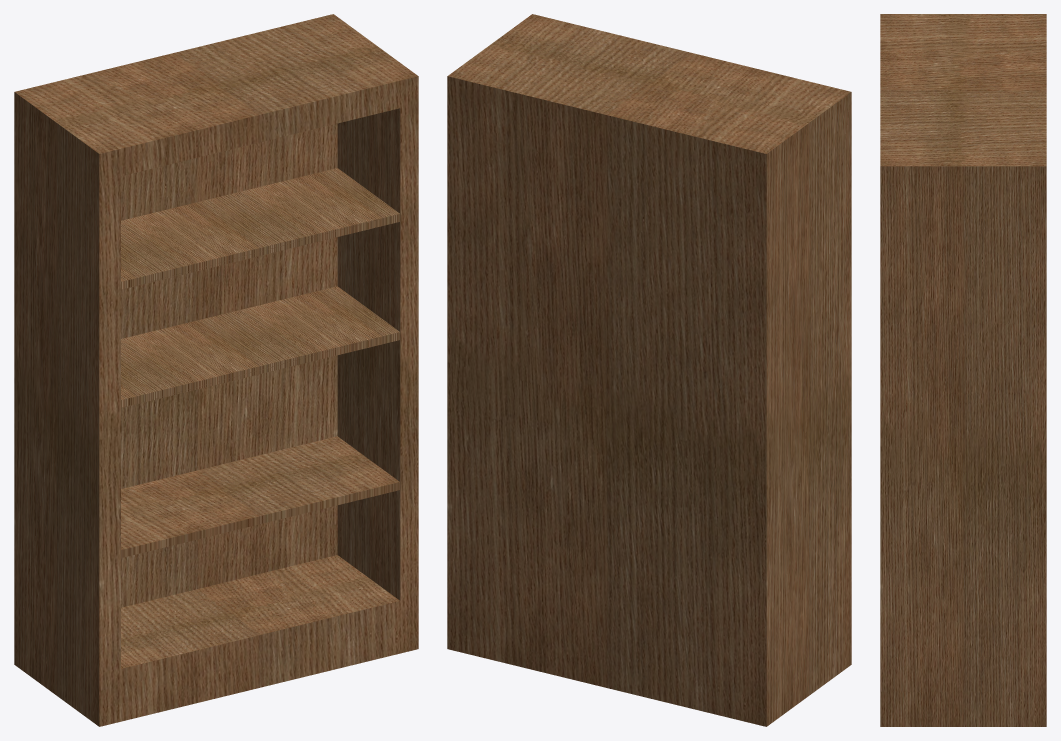
File: rafiera.fbx
3 views of the same model, side by side, from view 1: azimuth 30°, elevation 25°; view 2: azimuth 150°, elevation 25°; view 3: azimuth 270°, elevation 25° (orthographic). The views are drawn at different scales.
Parts seen in each view (by area): view 1: Box001, Box003, Box002, Box004; view 2: Box001; view 3: Box001.
Boxes of the visible parts, <box> form: Box001: <box>14,14,418,726</box>; Box003: <box>121,286,399,407</box>; Box002: <box>121,168,399,289</box>; Box004: <box>121,436,399,557</box>; Box001: <box>447,14,851,726</box>; Box001: <box>880,14,1046,726</box>.
Bounding box in the file's own units: 69.67 × 120 × 32.14.
